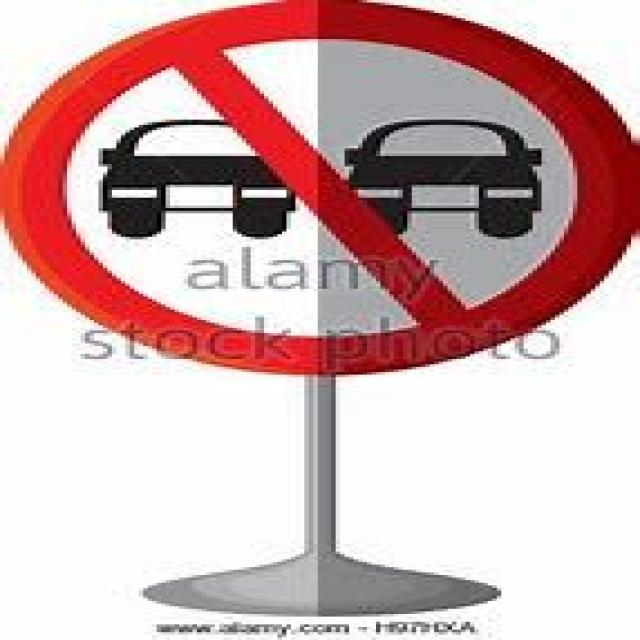no_stop: (4, 0, 636, 375)
